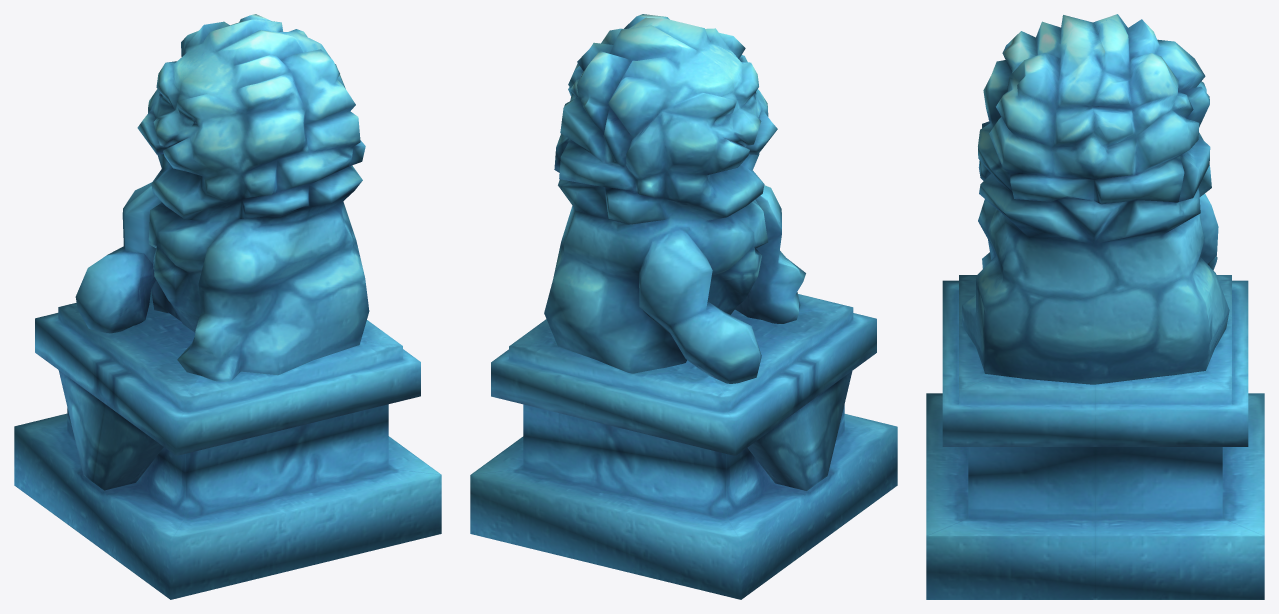
Rendered from Stage_BingYuan_ShiZi.FBX.
The picture shows the model from 3 angles, left to right: view 1: azimuth 30°, elevation 25°; view 2: azimuth 150°, elevation 25°; view 3: azimuth 270°, elevation 25°; orthographic projection. The views are drawn at different scales.
Visible parts, largest first — view 1: Stage_BingYuan_ShiZi; view 2: Stage_BingYuan_ShiZi; view 3: Stage_BingYuan_ShiZi.
Boxes of the visible parts, x1,y1,x2,y2 form: Stage_BingYuan_ShiZi: (14, 14, 441, 599); Stage_BingYuan_ShiZi: (470, 14, 897, 599); Stage_BingYuan_ShiZi: (926, 14, 1264, 599).
Bounding box in the file's own units: 141 × 239 × 141.
